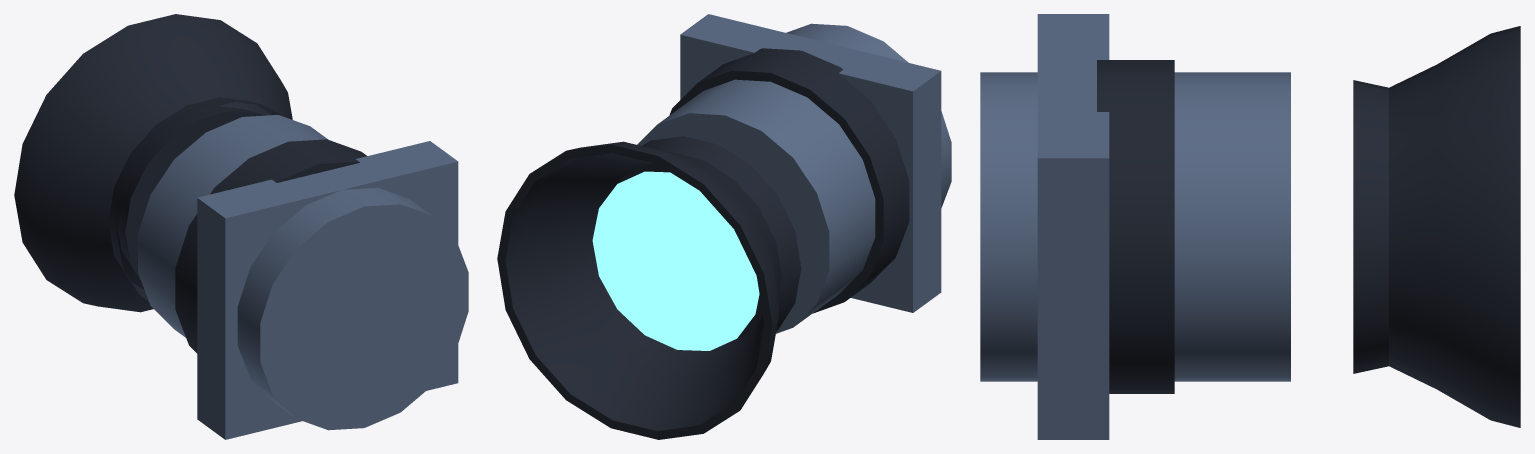
Rendered from mod_motor_med.fbx.
3 views of the same model, side by side, from view 1: azimuth 30°, elevation 25°; view 2: azimuth 150°, elevation 25°; view 3: azimuth 270°, elevation 25° (orthographic). The views are drawn at different scales.
Parts seen in each view (by area): view 1: Motor_mediano; view 2: Motor_mediano, Motor_mediano_Neon; view 3: Motor_mediano.
Part boxes in pixels (left/top/right/bottom): Motor_mediano: left=14, top=14, right=468, bottom=439; Motor_mediano: left=497, top=14, right=951, bottom=439; Motor_mediano_Neon: left=592, top=171, right=759, bottom=350; Motor_mediano: left=980, top=14, right=1520, bottom=439.
Size of the model in its own units: 0.9464 by 0.932 by 1.27.
